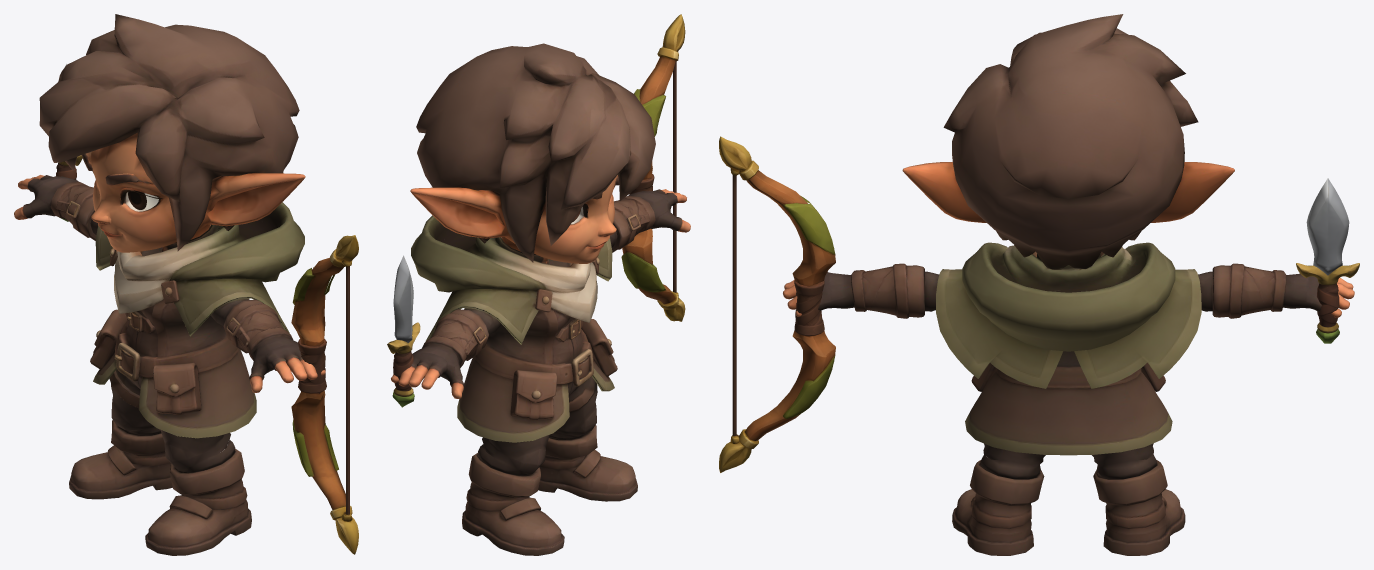
The model's file is elf-rogue-equipped-tripo-v1.glb.
3 renders of one model, left to right at view 1: azimuth 30°, elevation 25°; view 2: azimuth 150°, elevation 25°; view 3: azimuth 270°, elevation 25°, orthographic. The views are drawn at different scales.
Parts seen in each view (by area): view 1: tripo_08a26d30_335a_4742_b6a1_8b78c729f7, Bow_Left_Hand; view 2: tripo_08a26d30_335a_4742_b6a1_8b78c729f7, Bow_Left_Hand, Dagger_Right_Hand; view 3: tripo_08a26d30_335a_4742_b6a1_8b78c729f7, Bow_Left_Hand, Dagger_Right_Hand.
Part boxes in pixels (bbox=[...]): tripo_08a26d30_335a_4742_b6a1_8b78c729f7: bbox=[14, 14, 325, 555]; Bow_Left_Hand: bbox=[291, 235, 358, 554]; tripo_08a26d30_335a_4742_b6a1_8b78c729f7: bbox=[391, 43, 690, 555]; Bow_Left_Hand: bbox=[621, 14, 685, 321]; Dagger_Right_Hand: bbox=[387, 255, 420, 407]; tripo_08a26d30_335a_4742_b6a1_8b78c729f7: bbox=[783, 14, 1354, 555]; Bow_Left_Hand: bbox=[719, 136, 835, 472]; Dagger_Right_Hand: bbox=[1296, 178, 1359, 343].
Bounding box in the file's own units: 0.4485 × 0.874 × 1.
3 materials, 3 textured.
